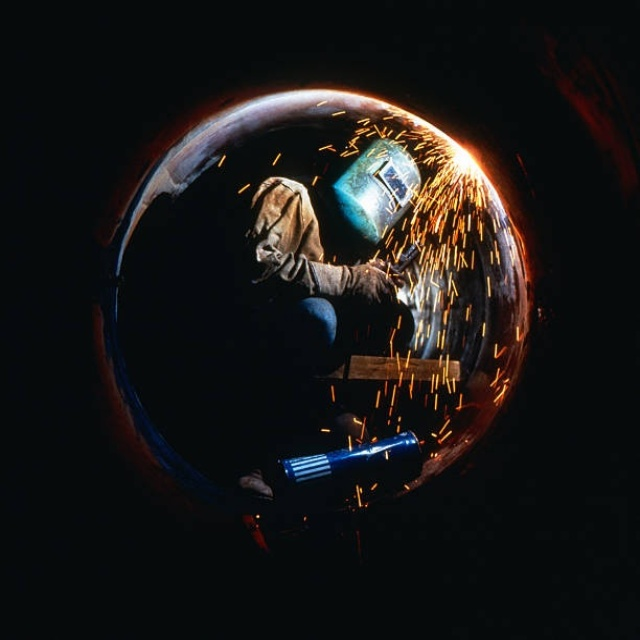Guantes: (302, 250, 401, 312)
